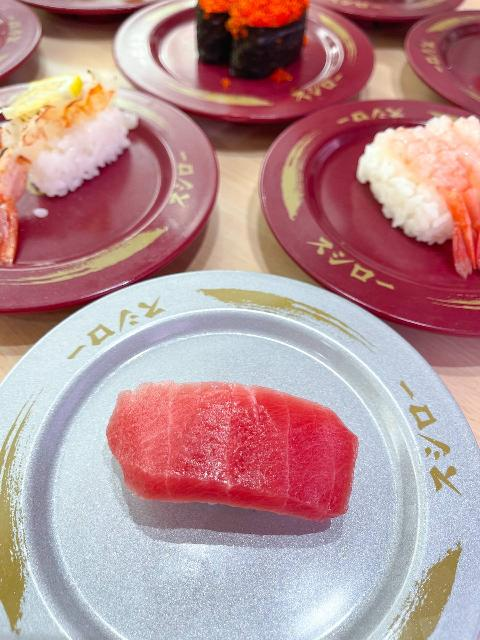janred: (233, 111, 480, 330), (1, 93, 222, 300), (107, 7, 372, 103), (391, 7, 480, 98), (21, 0, 153, 32), (0, 1, 40, 89), (313, 0, 460, 21)
janwhite: (32, 293, 449, 640)
